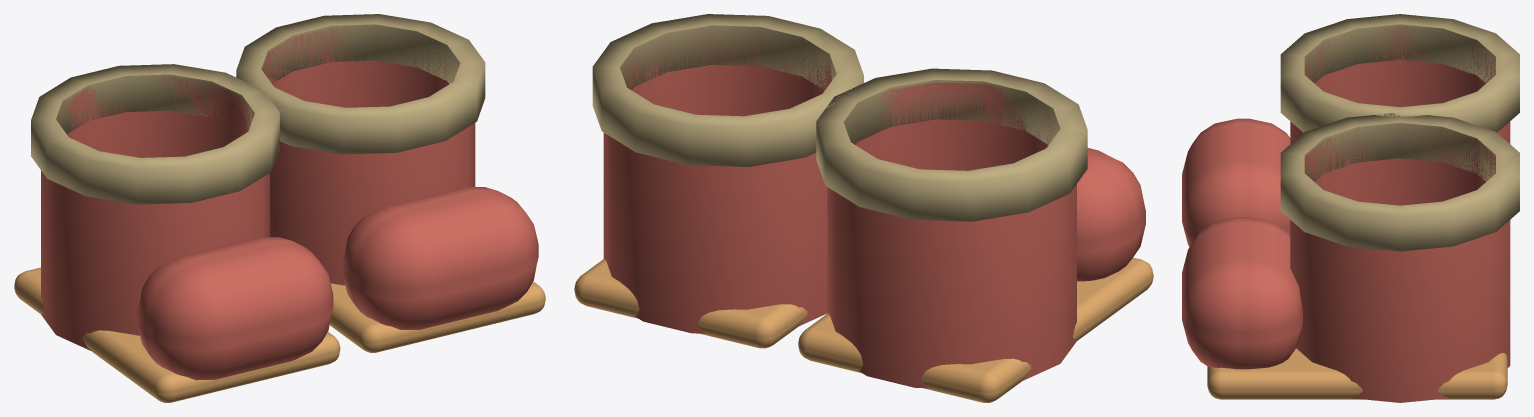
Rendered from faux_fur_ankle_booties.glb.
3 views of the same model, side by side, from view 1: azimuth 30°, elevation 25°; view 2: azimuth 150°, elevation 25°; view 3: azimuth 270°, elevation 25° (orthographic). The views are drawn at different scales.
Parts seen in each view (by area): view 1: faux_fur_ankle_booties_LegL, faux_fur_ankle_booties_LegR; view 2: faux_fur_ankle_booties_LegL, faux_fur_ankle_booties_LegR; view 3: faux_fur_ankle_booties_LegR, faux_fur_ankle_booties_LegL.
Boxes of the visible parts, x1=… form: faux_fur_ankle_booties_LegL: x1=14, y1=64, x2=340, y2=402; faux_fur_ankle_booties_LegR: x1=236, y1=14, x2=545, y2=352; faux_fur_ankle_booties_LegL: x1=798, y1=68, x2=1153, y2=402; faux_fur_ankle_booties_LegR: x1=574, y1=14, x2=863, y2=348; faux_fur_ankle_booties_LegR: x1=1182, y1=113, x2=1519, y2=402; faux_fur_ankle_booties_LegL: x1=1182, y1=14, x2=1519, y2=246.
Size of the model in its own units: 0.39 by 0.1765 by 0.2755.
